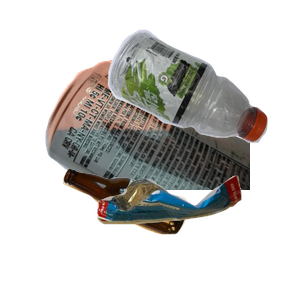glass: (60, 166, 241, 300)
metal: (43, 58, 283, 238)
plastic: (105, 27, 300, 162)
trash: (94, 173, 300, 300)
